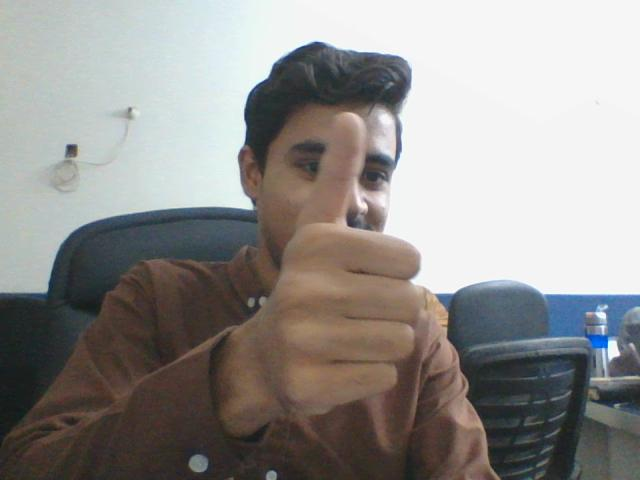thumbs-up: (266, 104, 432, 410)
